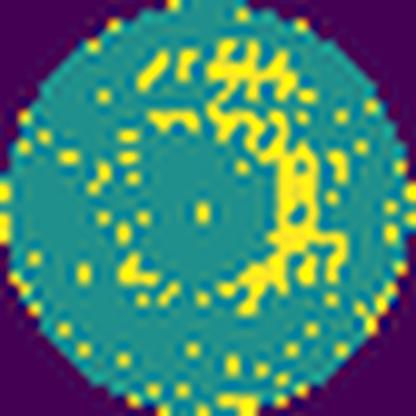Donut: (68, 31, 359, 321)
